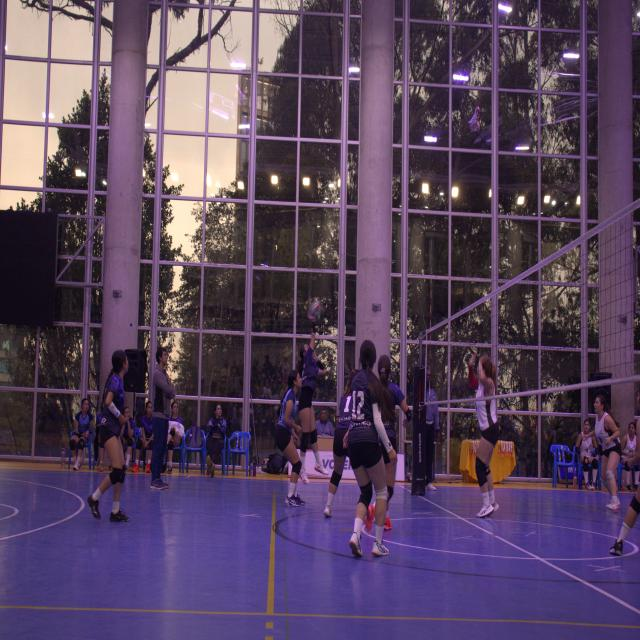volleyball: (310, 302, 322, 318)
